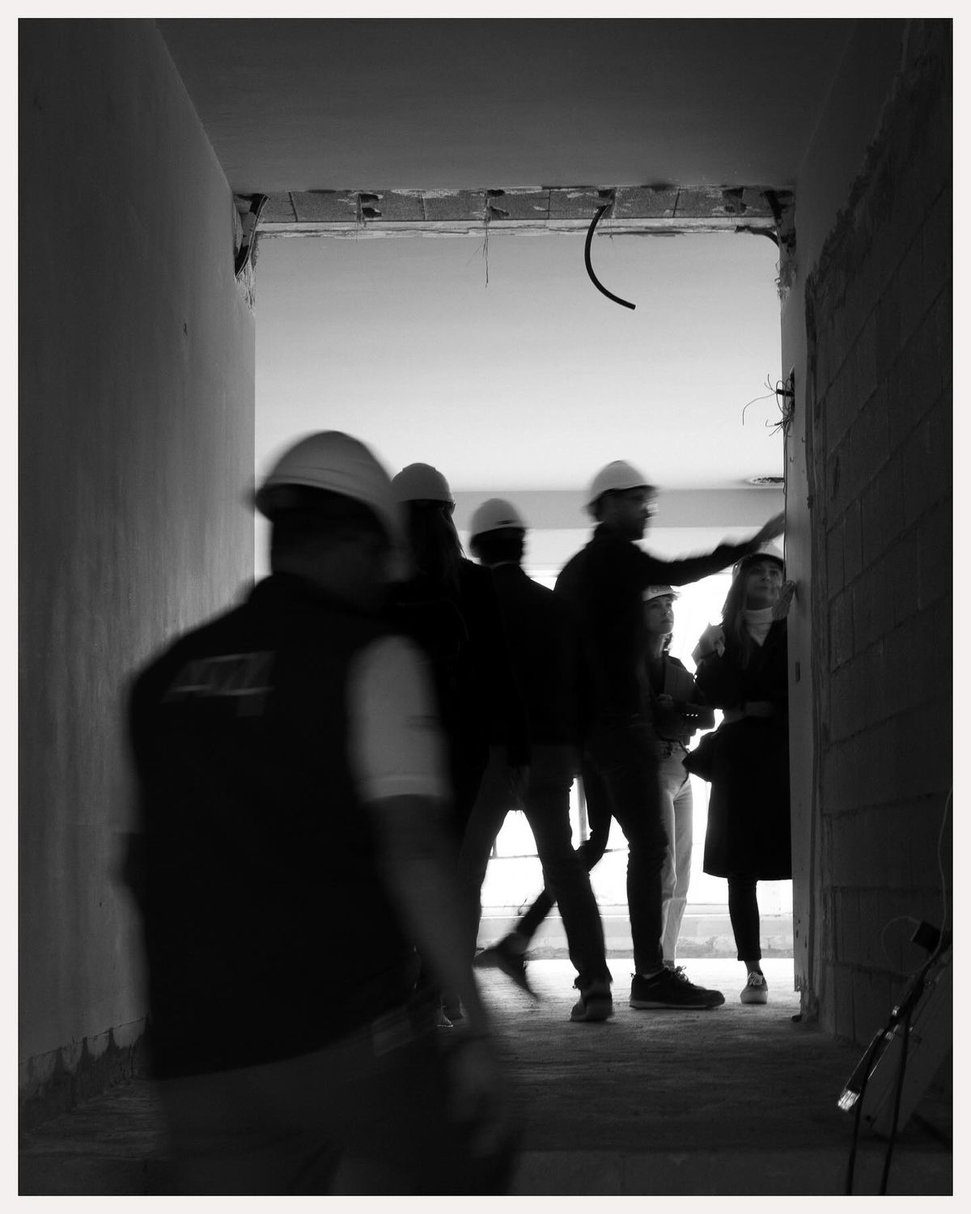person: (124, 409, 501, 1191), (471, 497, 615, 1067), (388, 441, 483, 993), (694, 513, 793, 1008), (568, 441, 649, 1015), (634, 573, 707, 1048)
